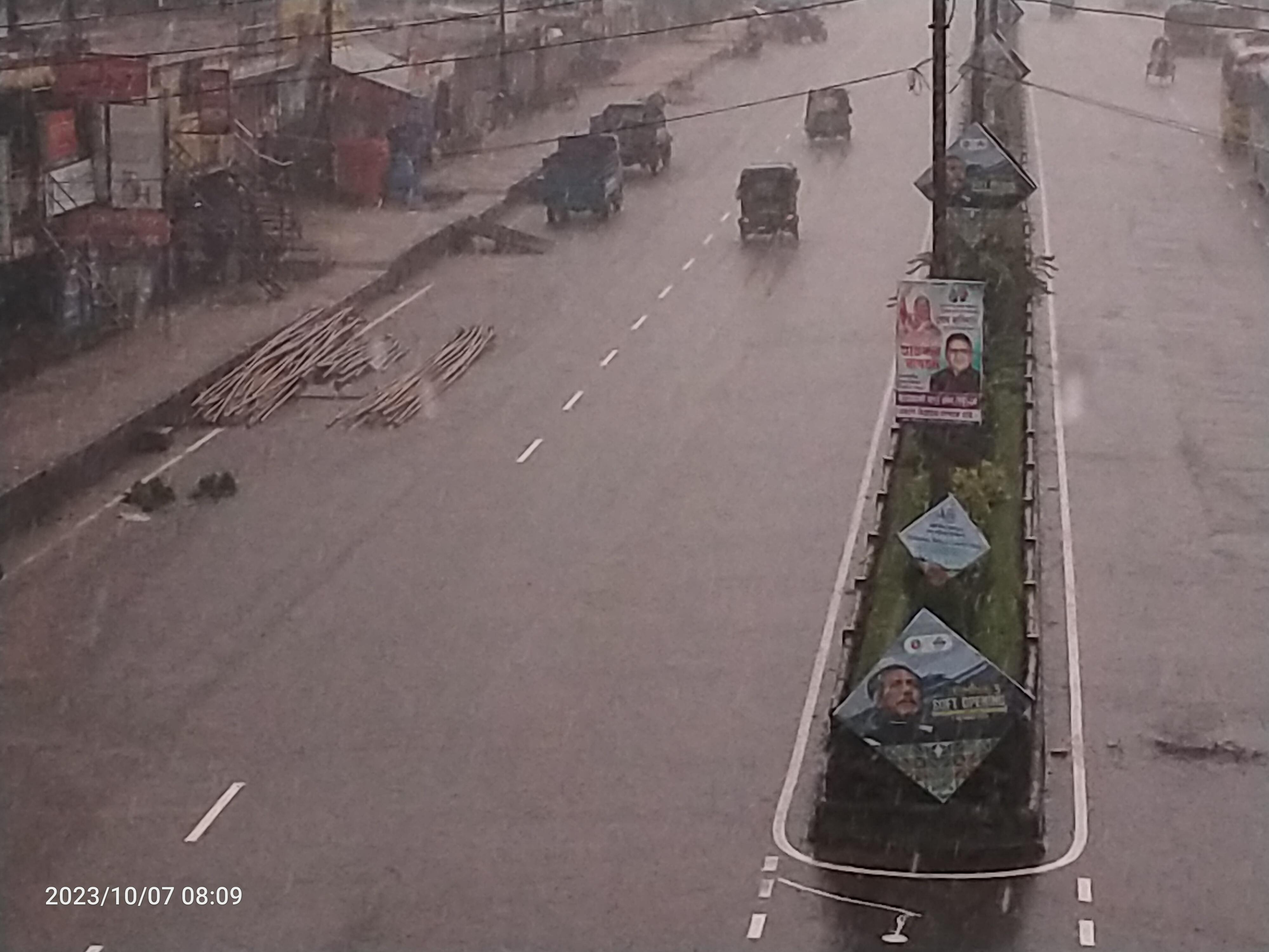Bus: (1221, 48, 1269, 205)
Car: (1128, 24, 1186, 99)
Truck: (532, 110, 636, 232), (580, 87, 686, 195)
